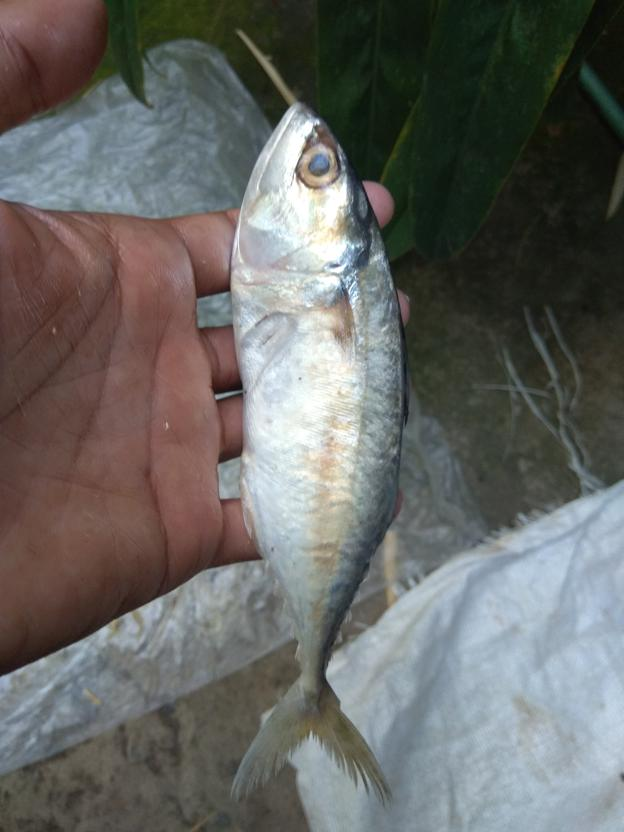Fish head: (230, 102, 377, 289)
Fish tail: (226, 672, 396, 806)
